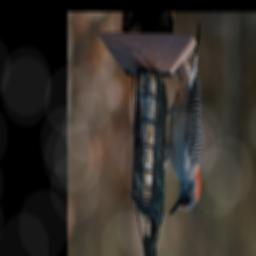Woodpecker: (161, 21, 202, 220)
